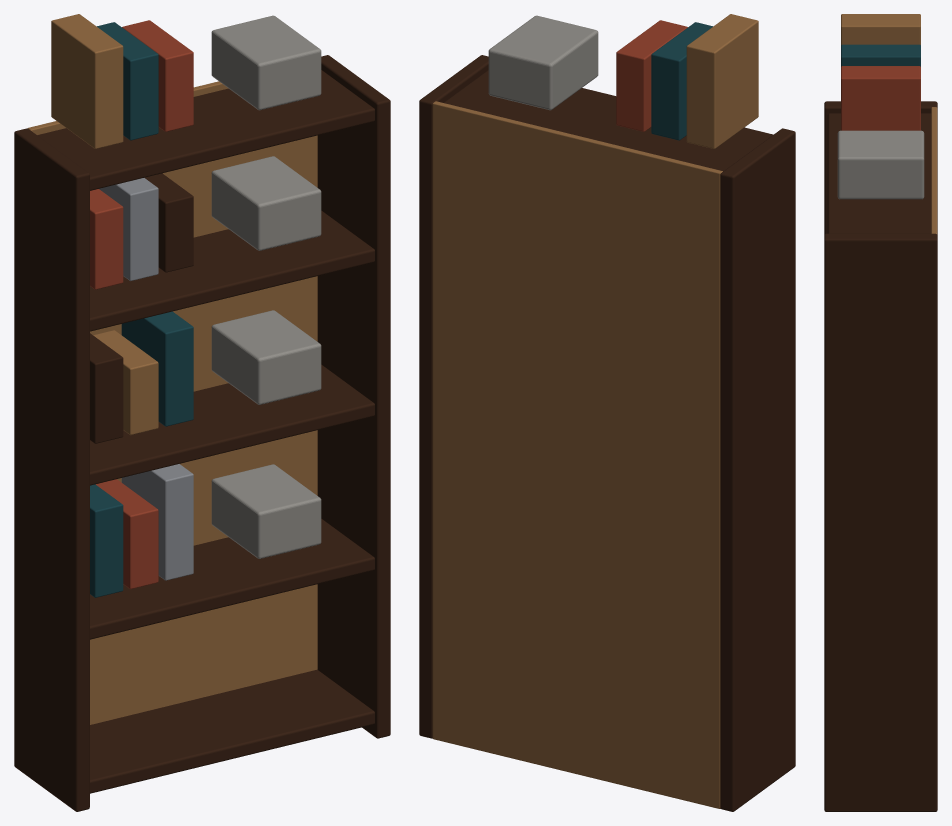
The model's file is modern_bookshelf.obj.
The picture shows the model from 3 angles, left to right: view 1: azimuth 30°, elevation 25°; view 2: azimuth 150°, elevation 25°; view 3: azimuth 270°, elevation 25°; orthographic projection. The views are drawn at different scales.
Parts seen in each view (by area): view 1: side, side.001, back, shelf_0, shelf_4, shelf_1, shelf_2, shelf_3, book_9, box_2, box_2.001, box_2.003 (+12 smaller); view 2: back, side, side.001, shelf_4, book_9, box_2.003, book_11, book_10; view 3: side.001, box_2.003, shelf_4, book_11, book_9, book_10, side, back.
Boxes of the visible parts, bbox=[...] form: side: bbox=[14, 128, 89, 811]; side.001: bbox=[317, 55, 390, 738]; back: bbox=[28, 81, 317, 724]; shelf_0: bbox=[90, 669, 374, 793]; shelf_4: bbox=[37, 70, 374, 190]; shelf_1: bbox=[90, 519, 374, 639]; shelf_2: bbox=[90, 364, 374, 485]; shelf_3: bbox=[90, 210, 374, 331]; book_9: bbox=[51, 14, 123, 148]; box_2: bbox=[211, 464, 321, 558]; box_2.001: bbox=[211, 310, 321, 404]; box_2.003: bbox=[211, 15, 321, 110]; back: bbox=[432, 101, 722, 808]; side: bbox=[720, 128, 795, 811]; side.001: bbox=[419, 55, 488, 738]; shelf_4: bbox=[443, 70, 773, 171]; book_9: bbox=[686, 14, 758, 148]; box_2.003: bbox=[488, 15, 598, 110]; book_11: bbox=[616, 20, 687, 131]; book_10: bbox=[651, 22, 712, 140]; side.001: bbox=[824, 233, 937, 811]; box_2.003: bbox=[837, 130, 924, 199]; shelf_4: bbox=[827, 113, 931, 233]; book_11: bbox=[841, 66, 920, 130]; book_9: bbox=[841, 14, 920, 44]; book_10: bbox=[841, 44, 920, 66]; side: bbox=[824, 101, 937, 234]; back: bbox=[931, 107, 937, 234].
Size of the model in its own units: 0.985 by 2.23 by 0.34.
